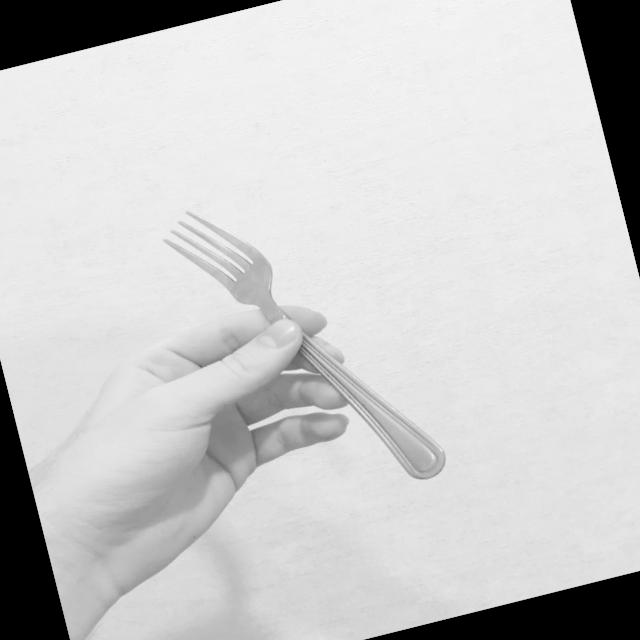fork: (151, 164, 449, 529)
